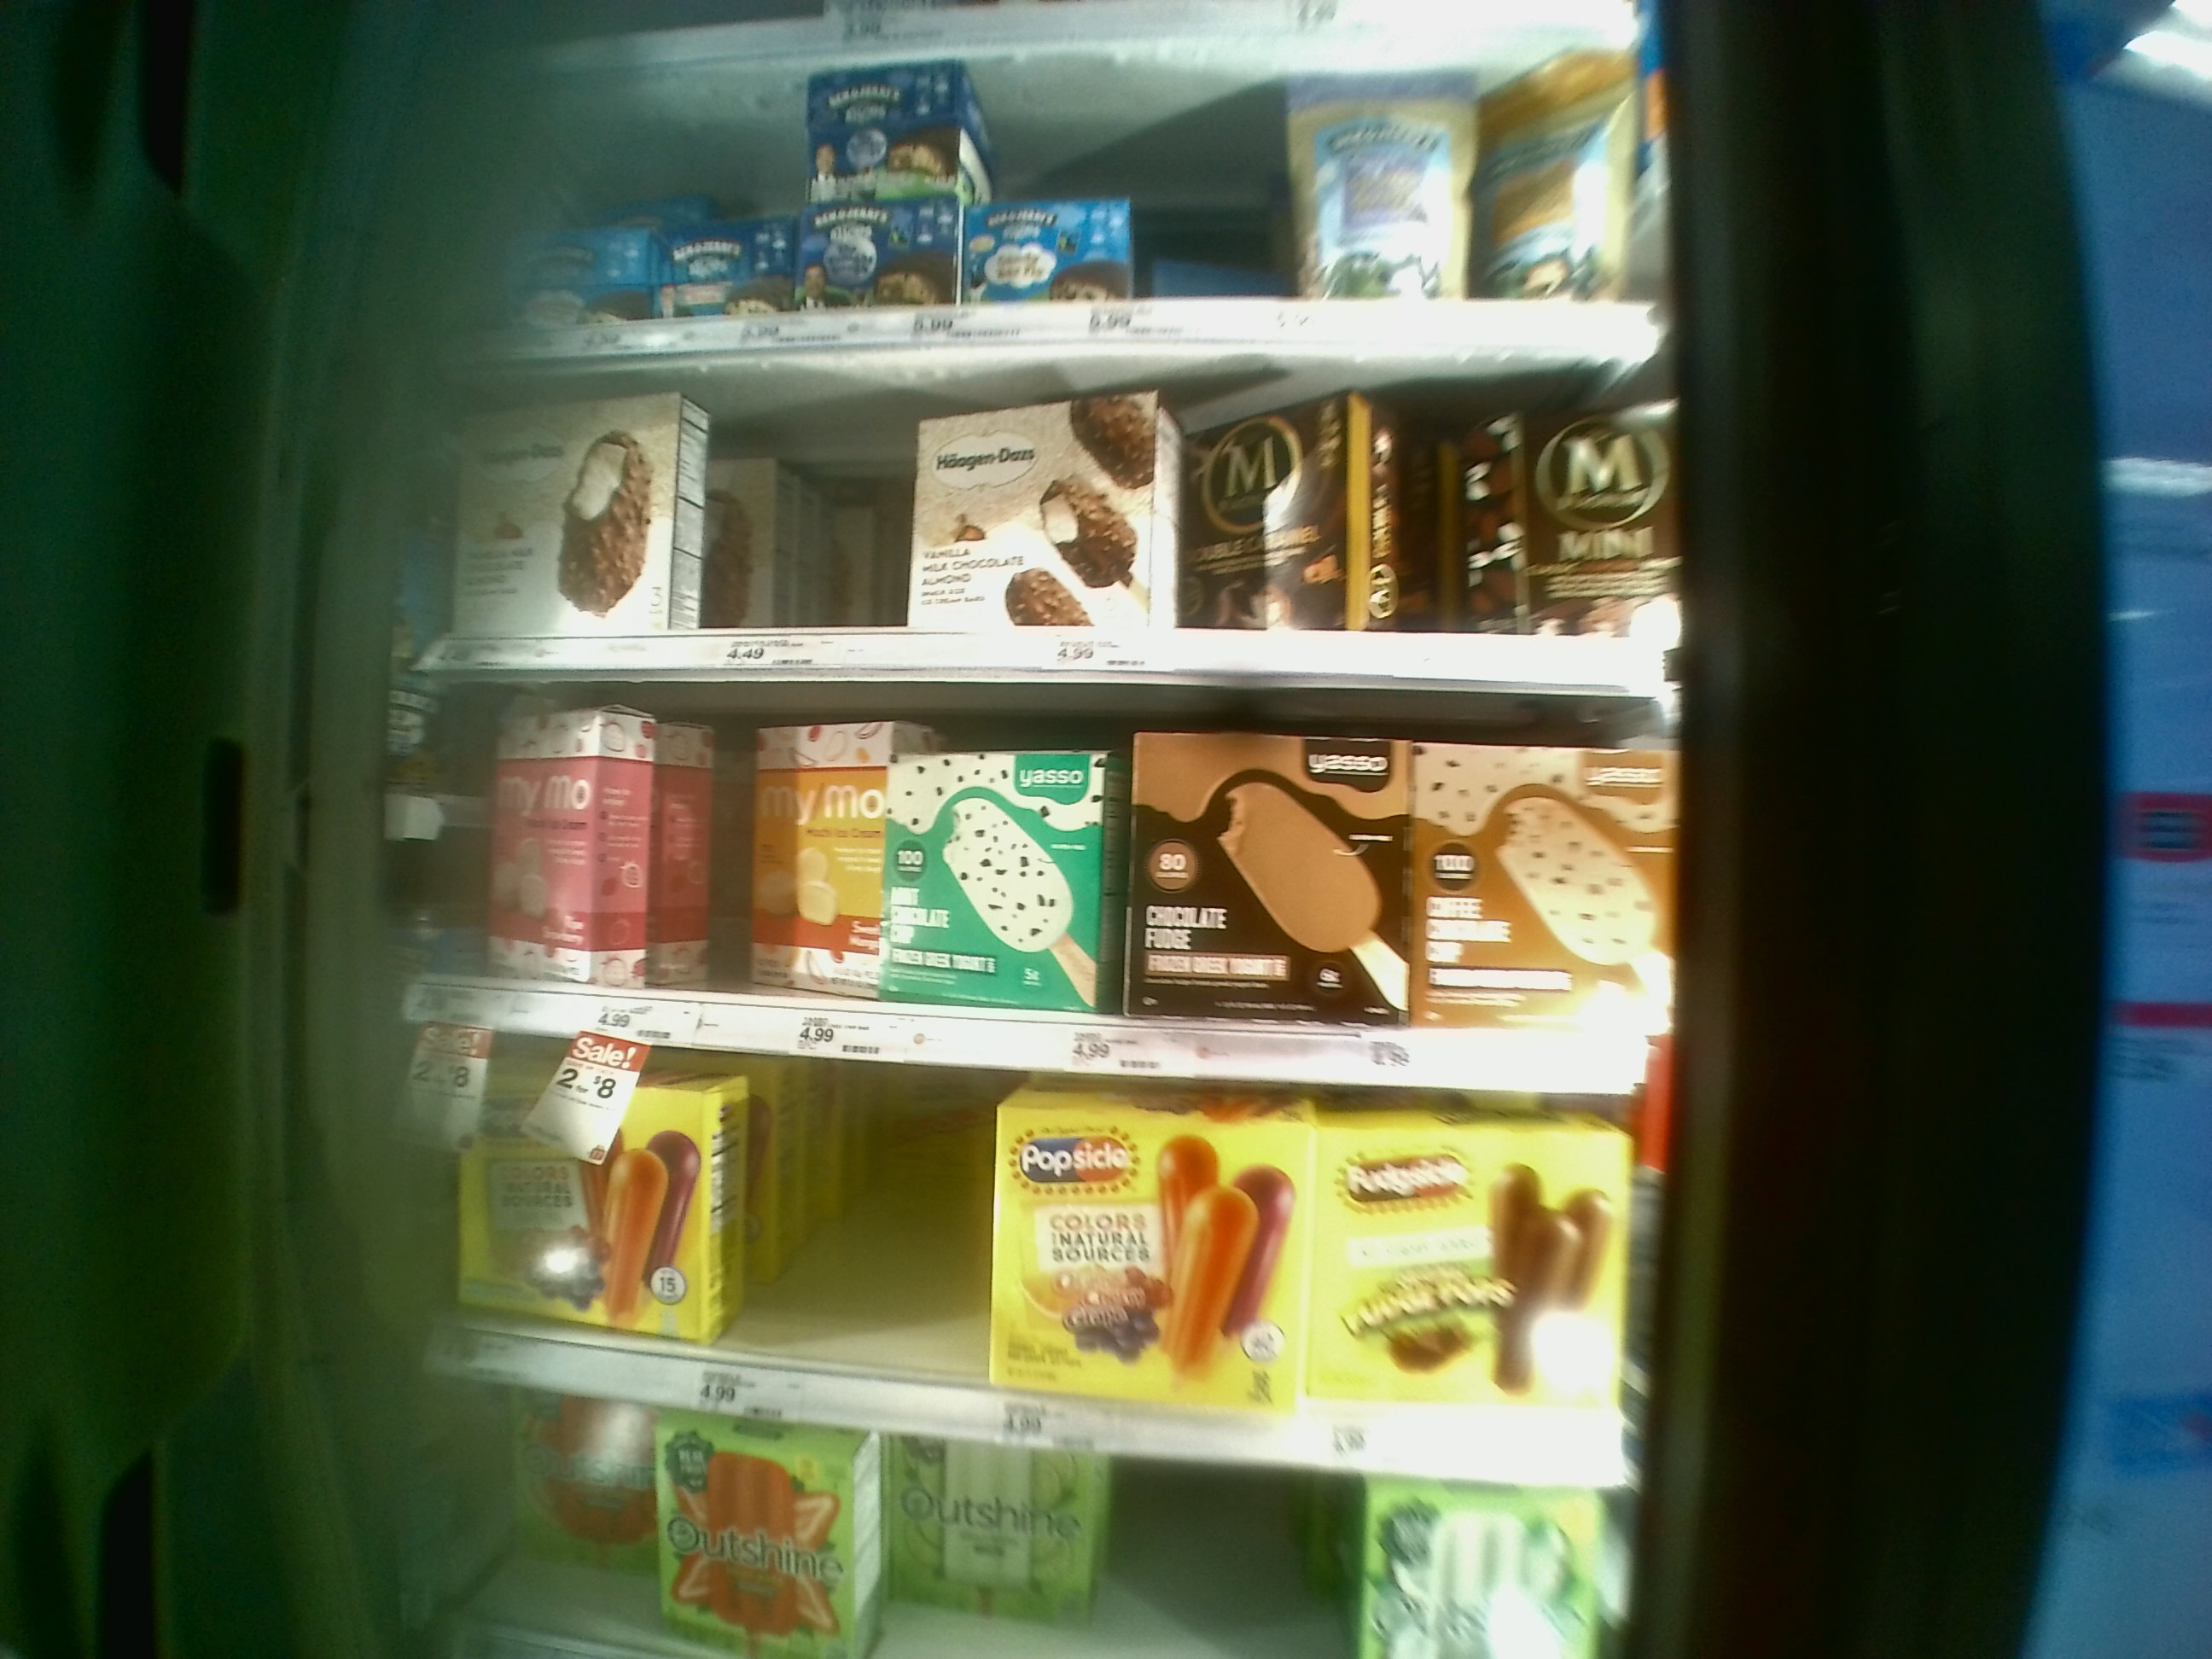shelf: (388, 671, 1679, 1082), (394, 361, 1681, 699)
